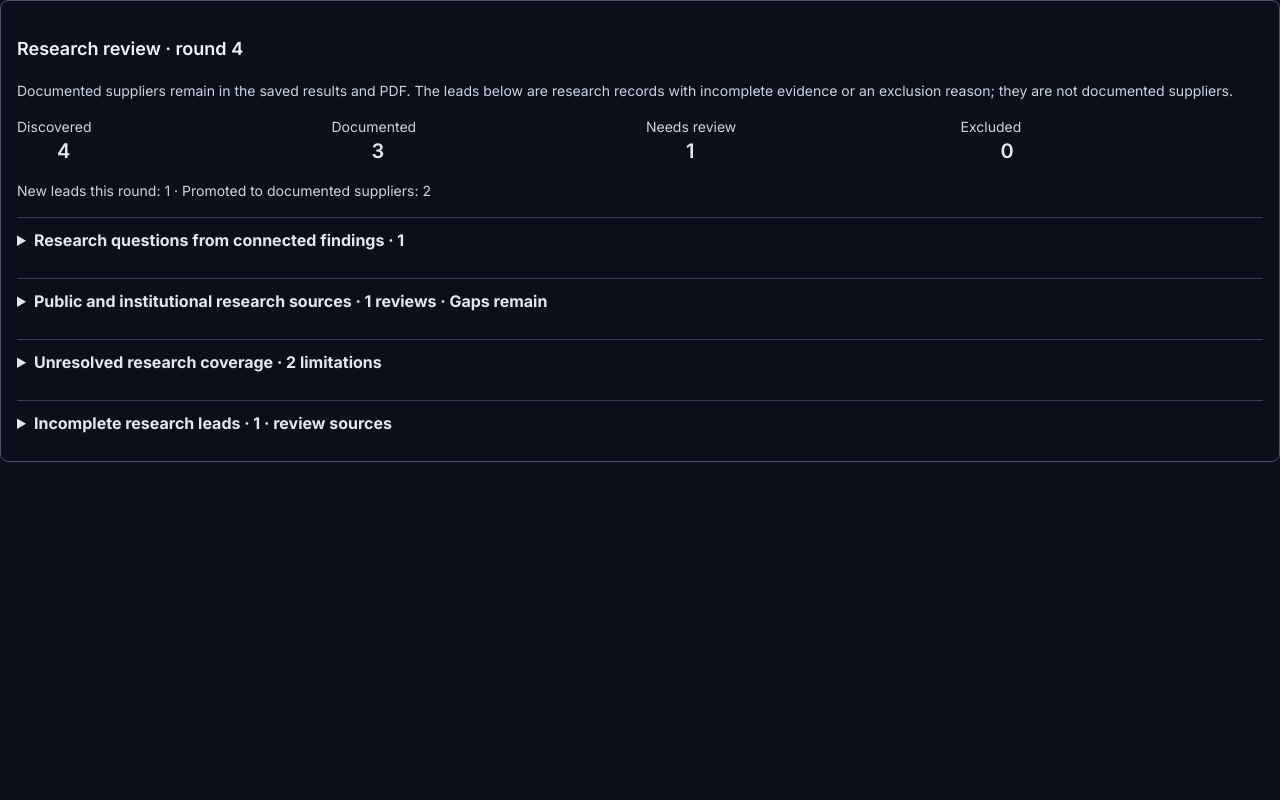
MB-UX-QUALITY-001 L11 presents source-backed relationships as questions, not established supplier facts
Click the heading "Research questions from connected findings · 1". click: (219, 240)
box: left=34, top=230, right=404, bottom=250
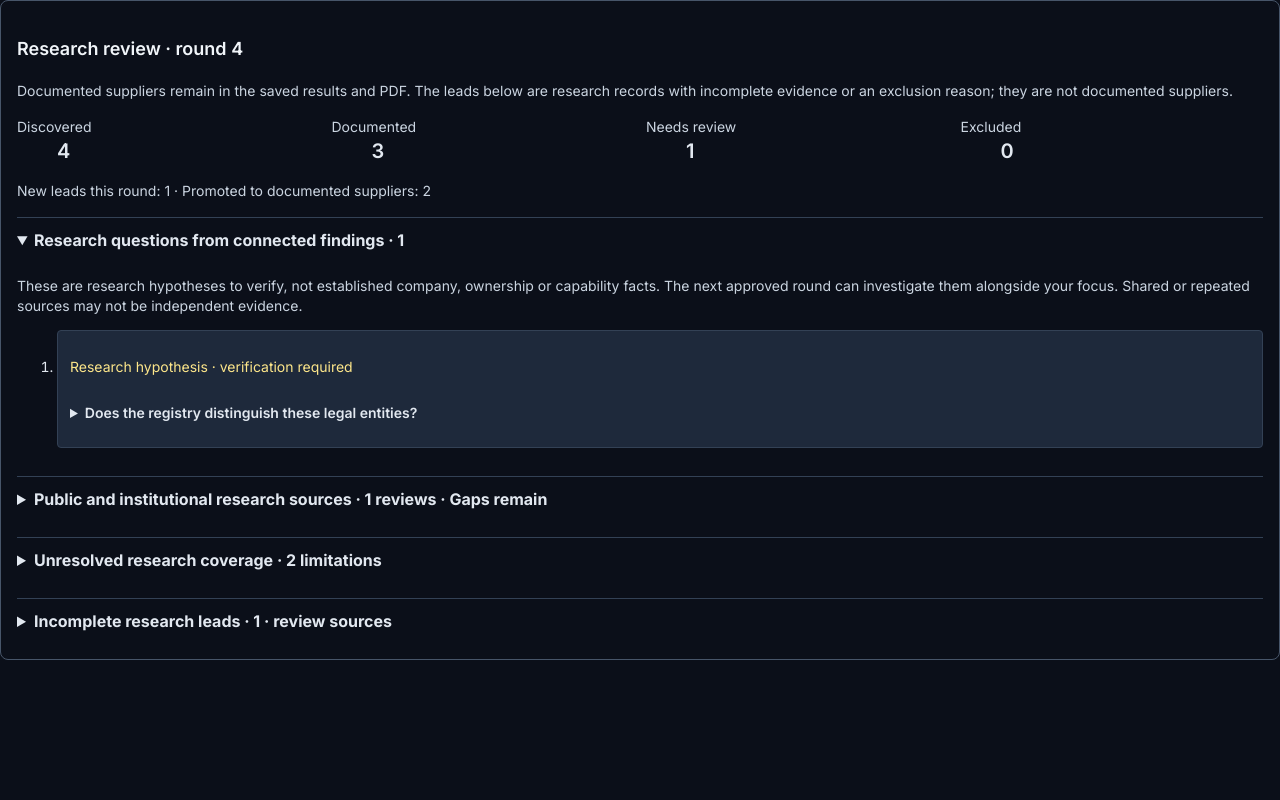
Click the heading "Does the registry distinguish these legal entities?". click: (251, 412)
box: left=85, top=404, right=417, bottom=421
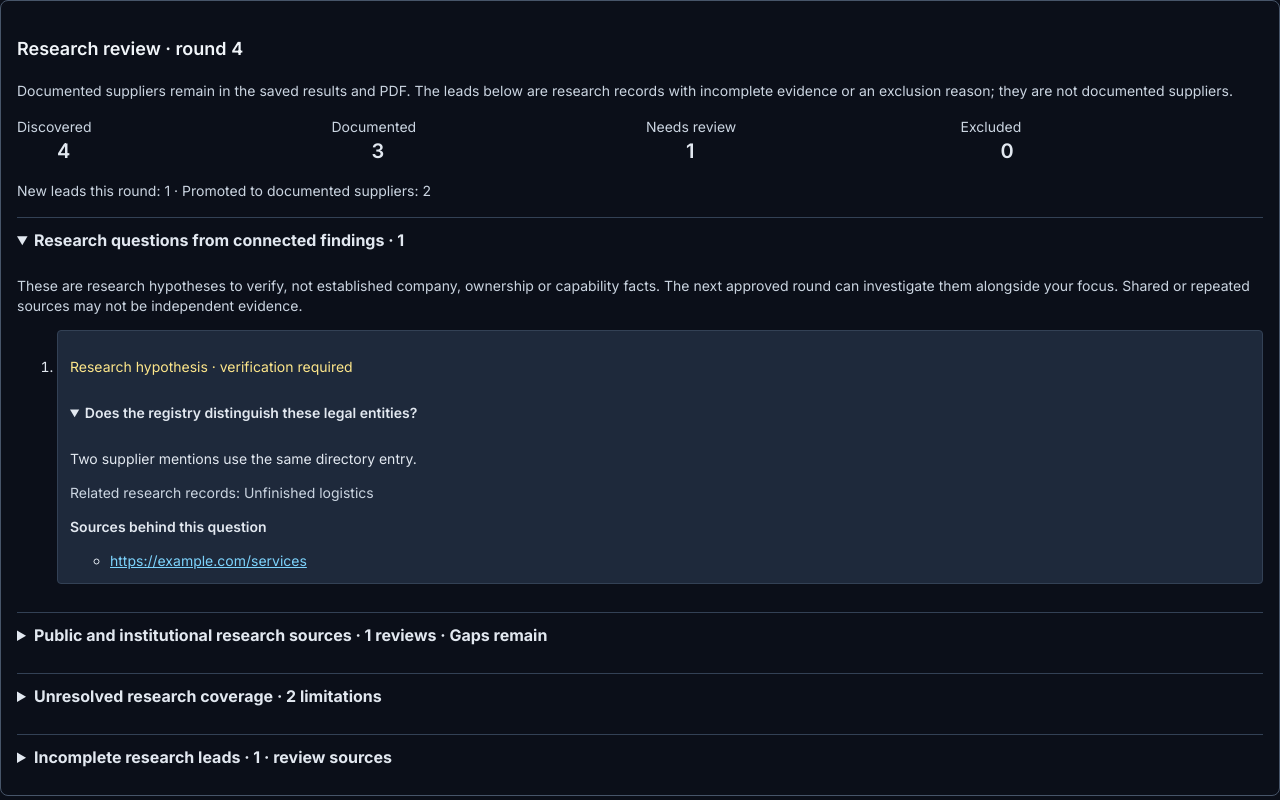
Check: the element named "Research questions from connected findings" shows "not established company, ownership or capability facts", box left=17, top=277, right=1250, bottom=314
Click the heading "Unresolved research coverage · 2 limitations". click: (208, 696)
box: left=34, top=686, right=382, bottom=706
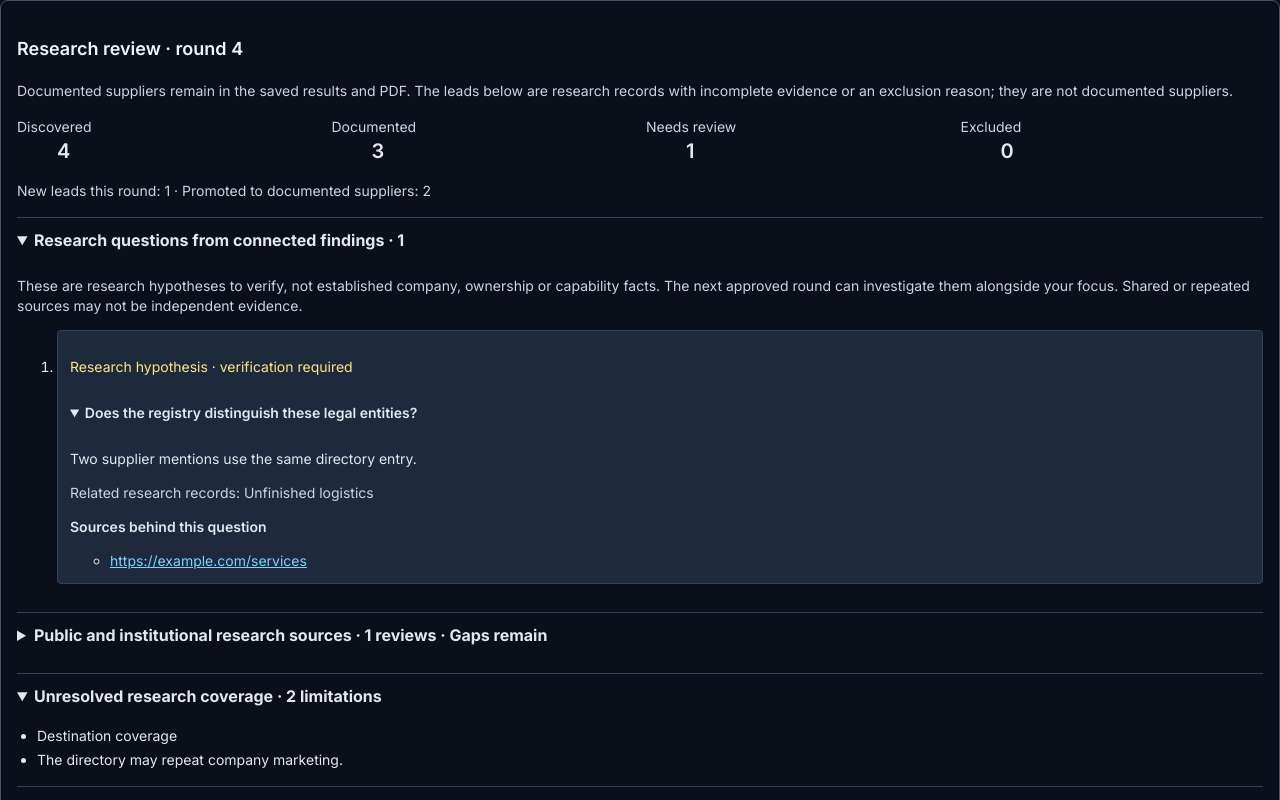
Check: the heading "Does the registry distinguish these legal entities?" is shown, box left=85, top=404, right=417, bottom=421
Check: the text "Related research records: Unfinished logistics" is shown, box left=70, top=484, right=374, bottom=501
Check: the list item "The directory may repeat company marketing." is shown, box left=37, top=751, right=343, bottom=768
